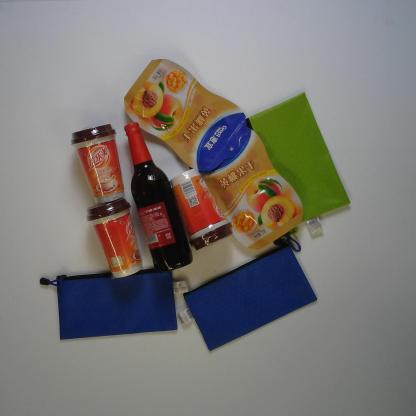Alcohol: (124, 122, 193, 272)
Dried Fruit: (123, 58, 248, 173), (198, 125, 304, 251)
Instant Drink: (169, 168, 234, 252), (85, 198, 144, 279), (70, 122, 126, 205)
Stationery: (177, 230, 318, 352), (245, 91, 351, 240), (39, 267, 190, 341)
